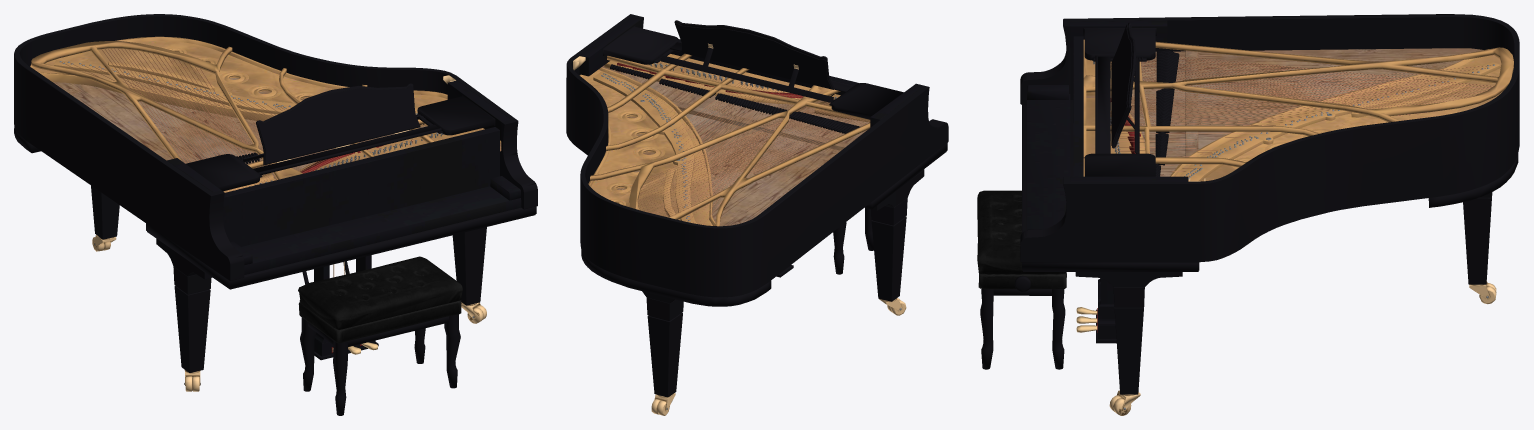
Rendered from grand_piano_base.gltf.
3 renders of one model, left to right at view 1: azimuth 30°, elevation 25°; view 2: azimuth 150°, elevation 25°; view 3: azimuth 270°, elevation 25°, orthographic. The views are drawn at different scales.
Parts seen in each view (by area): view 1: piano_frame, pCube22, chair_leather, piano_stand, pCube1, piano_plate, pPlane7_bool, pPlane8, pCube28, chair_wood, pCube137, piano_leg_wood.001 (+14 smaller); view 2: piano_frame, piano_plate, pPlane8, pPlane7_bool, piano_stand, pCylinder28, pCube137, piano_leg_wood.001, piano_leg_wood, pCube39, pPlane9, pCylinder56 (+15 smaller); view 3: piano_frame, piano_plate, pPlane8, pCylinder28, pCube1, chair_leather, pPlane7_bool, pCylinder56, piano_leg_wood.002, pCube39, pCube137, pCube28 (+17 smaller).
Boxes of the visible parts, bbox=[...] form: piano_frame: bbox=[14, 14, 537, 280]; pCube22: bbox=[223, 127, 499, 246]; chair_leather: bbox=[298, 256, 462, 343]; piano_stand: bbox=[256, 83, 420, 165]; pCube1: bbox=[241, 186, 521, 274]; piano_plate: bbox=[53, 78, 501, 179]; pPlane7_bool: bbox=[33, 41, 447, 114]; pPlane8: bbox=[31, 41, 434, 179]; pCube28: bbox=[146, 206, 536, 289]; chair_wood: bbox=[300, 314, 460, 415]; pCube137: bbox=[185, 95, 495, 191]; piano_leg_wood.001: bbox=[156, 238, 212, 372]; piano_frame: bbox=[566, 14, 948, 297]; piano_plate: bbox=[602, 65, 868, 226]; pPlane8: bbox=[590, 53, 870, 226]; pPlane7_bool: bbox=[583, 69, 712, 225]; piano_stand: bbox=[674, 20, 834, 89]; pCylinder28: bbox=[637, 102, 869, 217]; pCube137: bbox=[603, 25, 903, 119]; piano_leg_wood.001: bbox=[865, 169, 924, 301]; piano_leg_wood: bbox=[642, 291, 683, 397]; pCube39: bbox=[593, 71, 696, 223]; pPlane9: bbox=[604, 54, 870, 122]; pCylinder56: bbox=[674, 82, 802, 224]; piano_frame: bbox=[1020, 14, 1519, 262]; piano_plate: bbox=[1086, 48, 1483, 176]; pPlane8: bbox=[1083, 39, 1513, 176]; pCylinder28: bbox=[1111, 54, 1493, 116]; pCube1: bbox=[1026, 94, 1070, 229]; chair_leather: bbox=[977, 190, 1066, 289]; pPlane7_bool: bbox=[1175, 55, 1501, 181]; pCylinder56: bbox=[1121, 65, 1492, 133]; piano_leg_wood.002: bbox=[1075, 272, 1182, 394]; pCube39: bbox=[1180, 61, 1500, 181]; pCube137: bbox=[1083, 28, 1156, 176]; pCube28: bbox=[1022, 100, 1199, 271].
Bounding box in the file's own units: 32.37 × 25.5 × 43.65.
18 materials, 18 textured.
